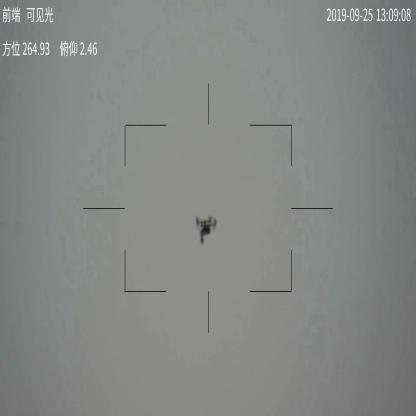uav: (194, 214, 218, 246)
